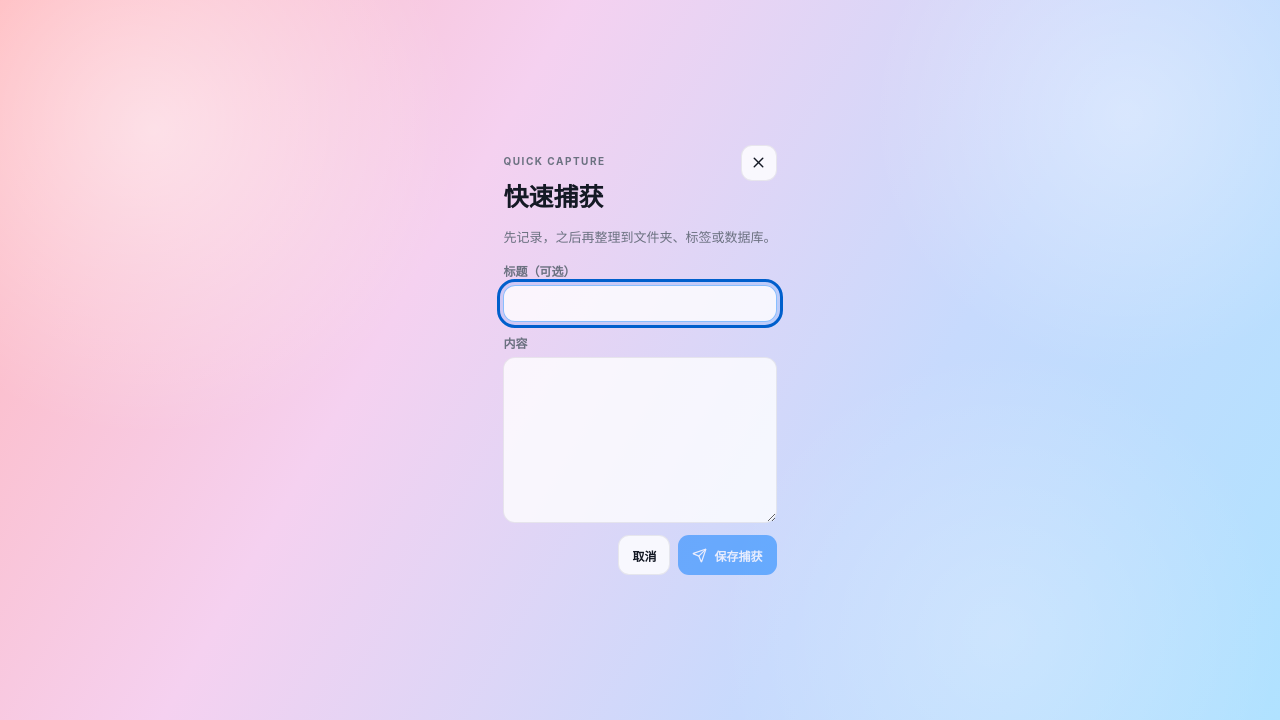
Test: QuickCapturePanel › keeps the draft and exposes a retryable error when capture fails
This screenshot has width=1280, height=720.
Type "离线内容" into the text box named "快速捕获内容" at (640, 440), box [504,357,776,523]
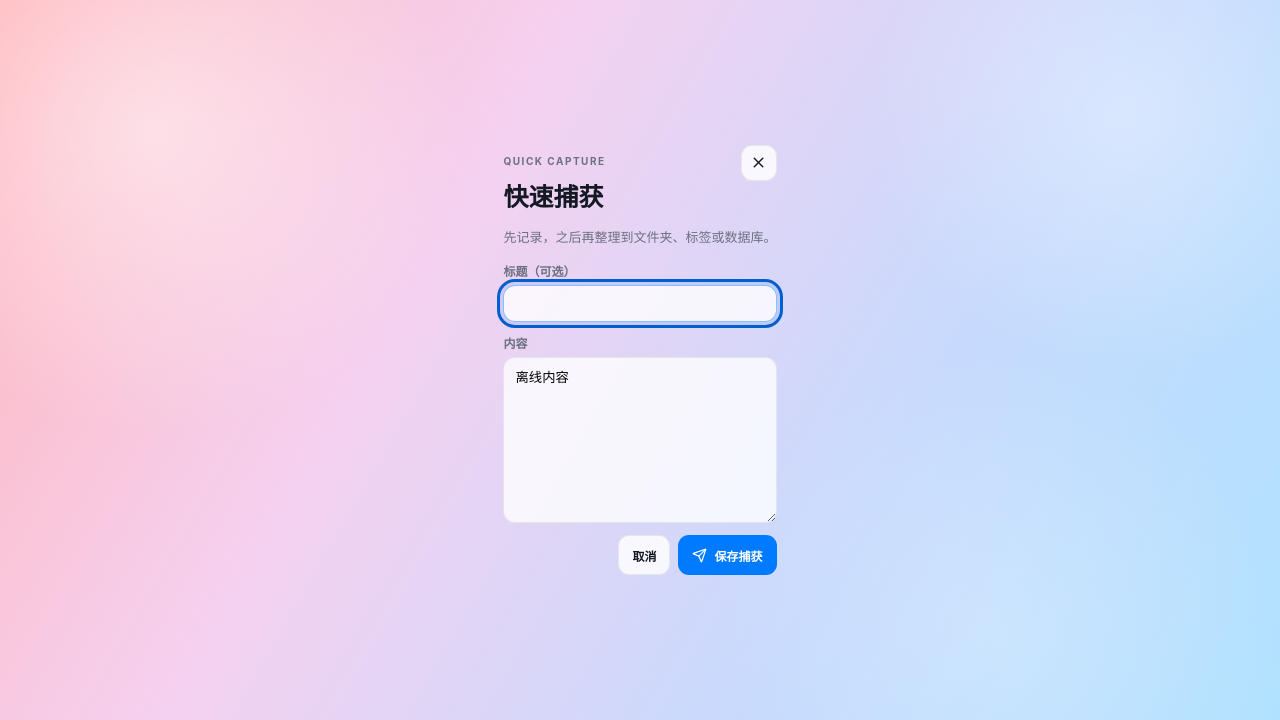
Click the button "保存捕获" at (728, 555), box [678,535,776,575]
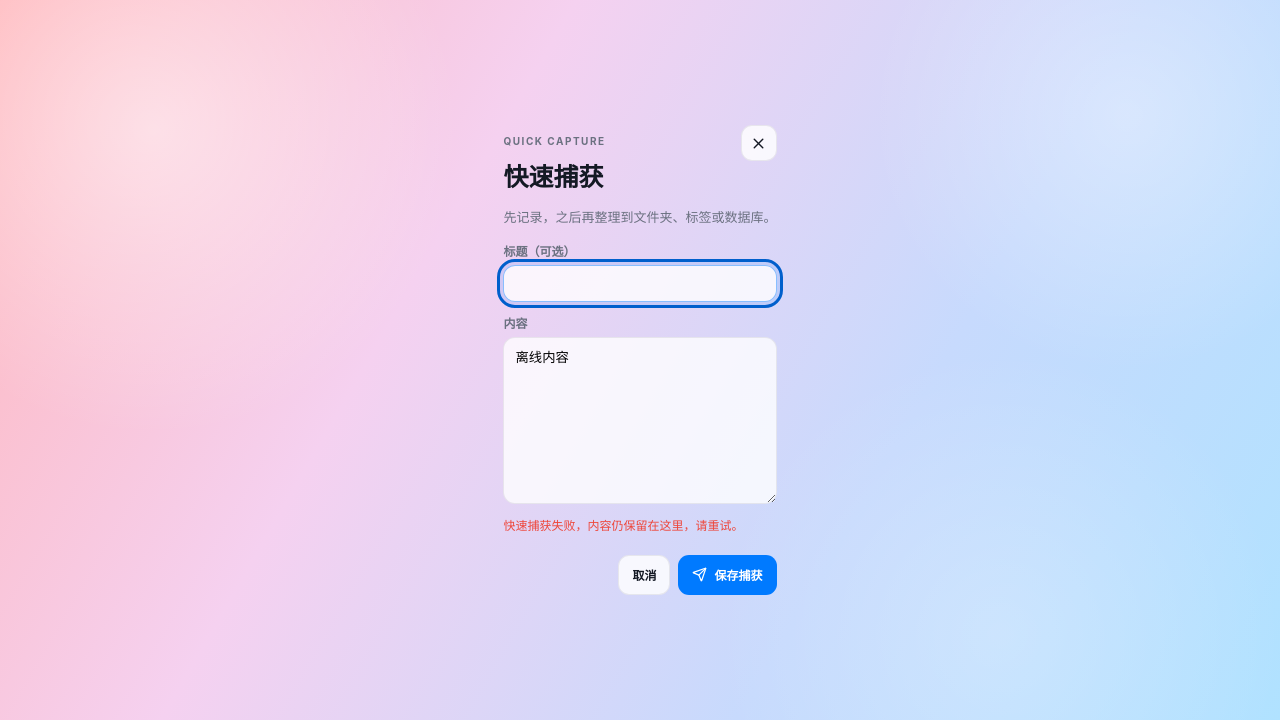
Expected: the button "保存捕获" is enabled, [678,555,776,595]
Expected: the message shows "快速捕获失败", [504,518,744,533]
